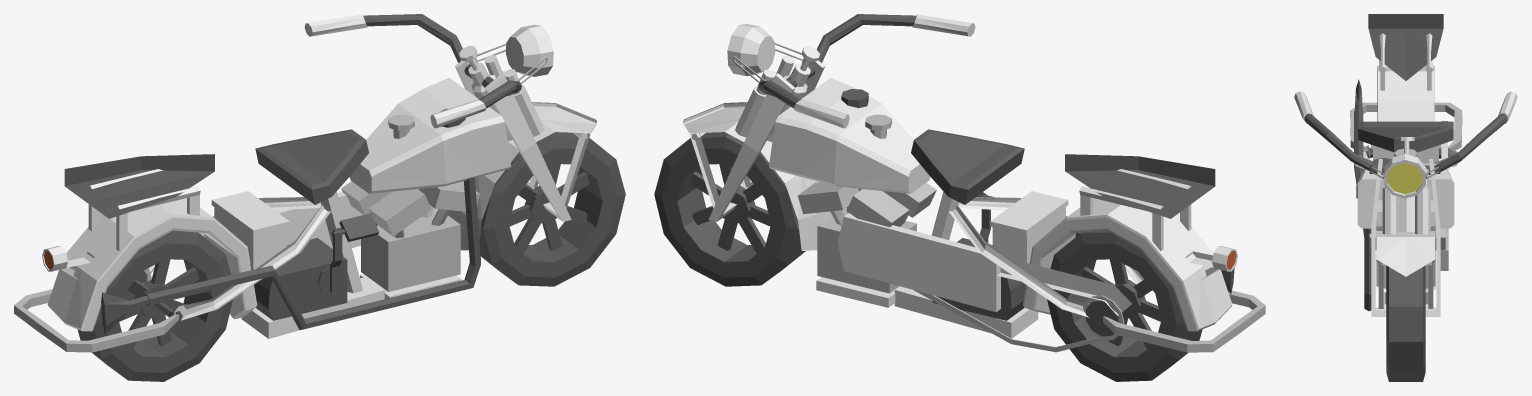
The model's file is moto.glb.
The picture shows the model from 3 angles, left to right: view 1: azimuth 30°, elevation 25°; view 2: azimuth 150°, elevation 25°; view 3: azimuth 270°, elevation 25°; orthographic projection. The views are drawn at different scales.
Parts seen in each view (by area): view 1: hull; view 2: hull; view 3: hull.
Boxes of the visible parts, box(x1,y1,x2,y2) form: hull: box(14, 14, 625, 381); hull: box(654, 14, 1265, 381); hull: box(1294, 14, 1517, 381).
Size of the model in its own units: 5.21 by 2.21 by 2.08.
